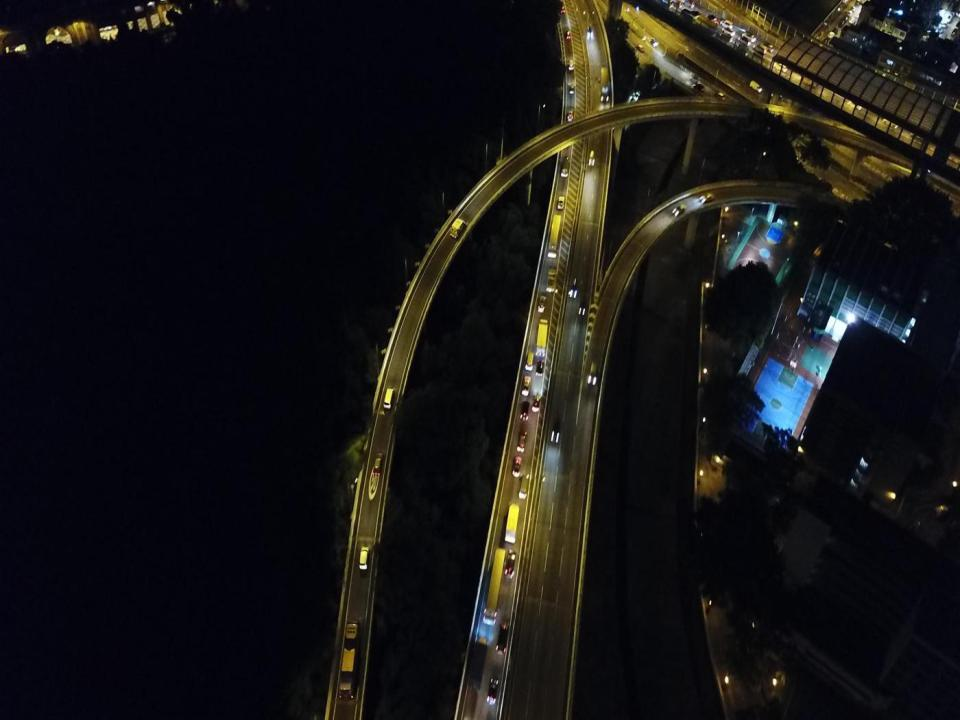bus: (337, 618, 361, 700), (482, 547, 506, 626), (504, 500, 521, 544), (546, 214, 561, 258)
car: (495, 620, 510, 655), (505, 548, 517, 580), (486, 677, 499, 706), (358, 545, 370, 571), (516, 429, 528, 453), (551, 415, 561, 442), (372, 452, 383, 476), (587, 361, 598, 385), (521, 374, 532, 397), (512, 456, 523, 477), (520, 400, 530, 421), (570, 277, 580, 298), (700, 191, 716, 203), (578, 297, 588, 316), (673, 202, 686, 216), (531, 393, 540, 413), (538, 294, 546, 313), (536, 359, 544, 377), (588, 149, 596, 166), (635, 42, 645, 52), (567, 110, 574, 122), (568, 83, 575, 94), (565, 28, 571, 40), (587, 26, 593, 38), (650, 38, 658, 47)
truck: (467, 636, 488, 693), (535, 318, 548, 356), (600, 66, 610, 103), (546, 265, 557, 291), (560, 156, 570, 178)
van: (449, 218, 465, 238), (518, 473, 529, 501), (383, 388, 394, 411), (525, 350, 534, 372), (557, 196, 565, 210), (568, 58, 574, 70)
